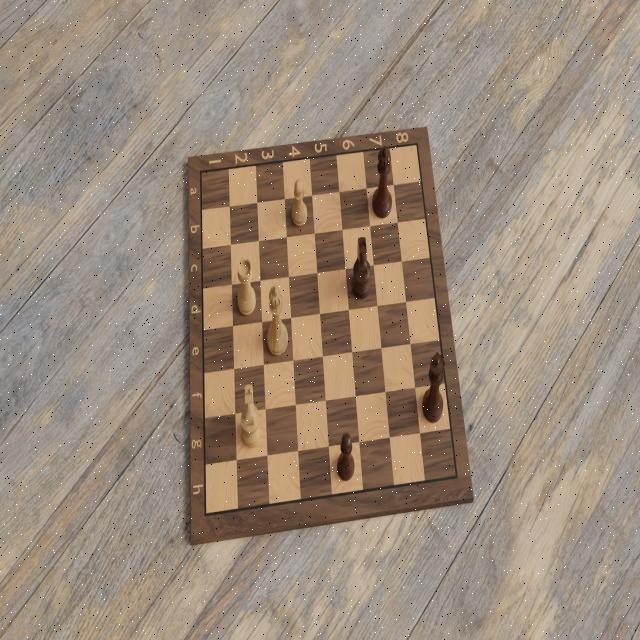black-king: (367, 143, 396, 224)
black-pawn: (335, 425, 358, 485)
black-queen: (420, 348, 447, 426)
white-king: (264, 281, 290, 358)
white-knight: (237, 380, 267, 455), (349, 229, 375, 310)
white-pawn: (290, 178, 309, 230)
white-rook: (233, 257, 258, 317)
